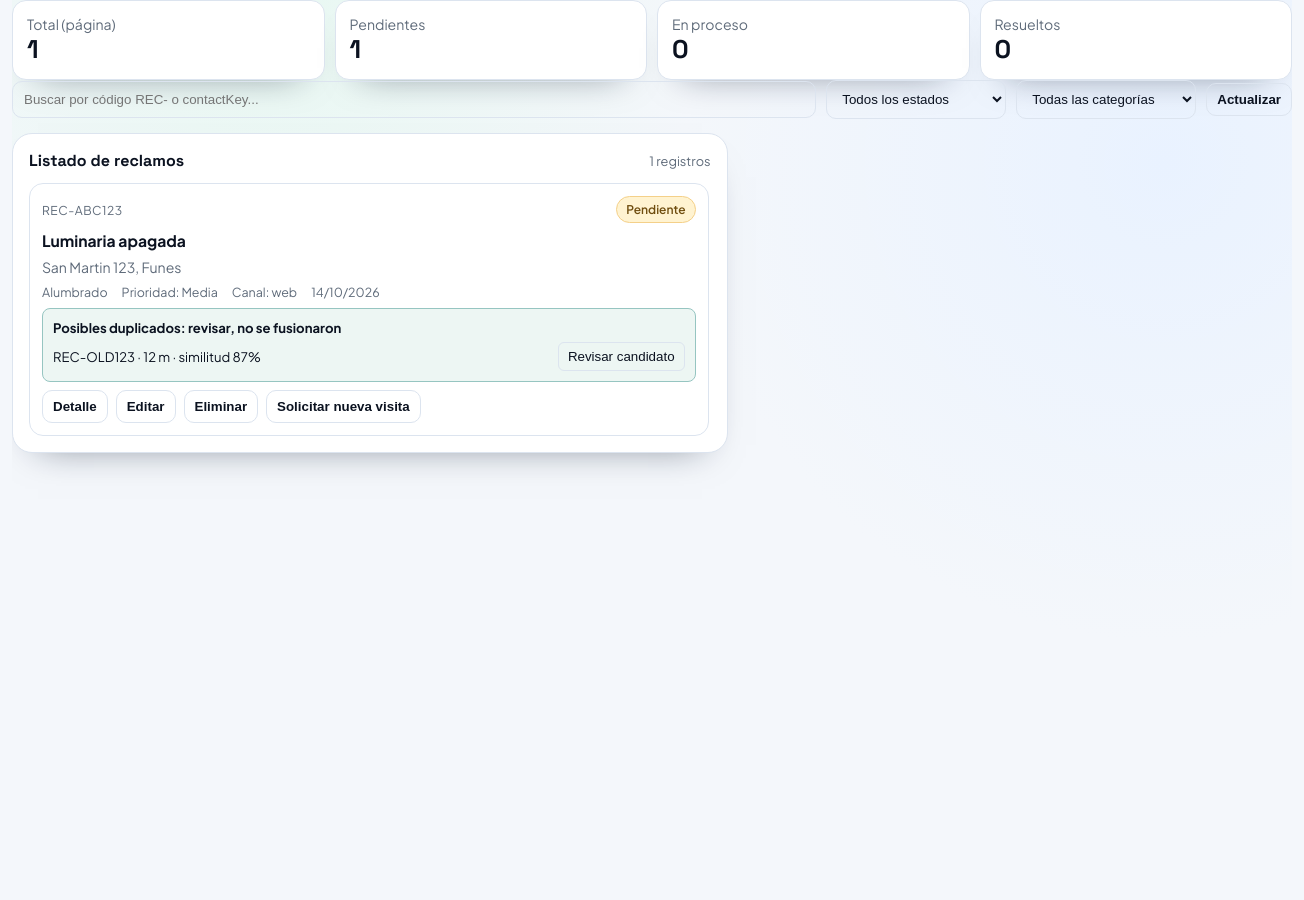
Test case: ReclamosPanel evidence details › loads the authenticated detail and displays the temporary evidence link
The image size is (1304, 900).
Click the button "Detalle" at [75, 406], box [42,390,108,423]
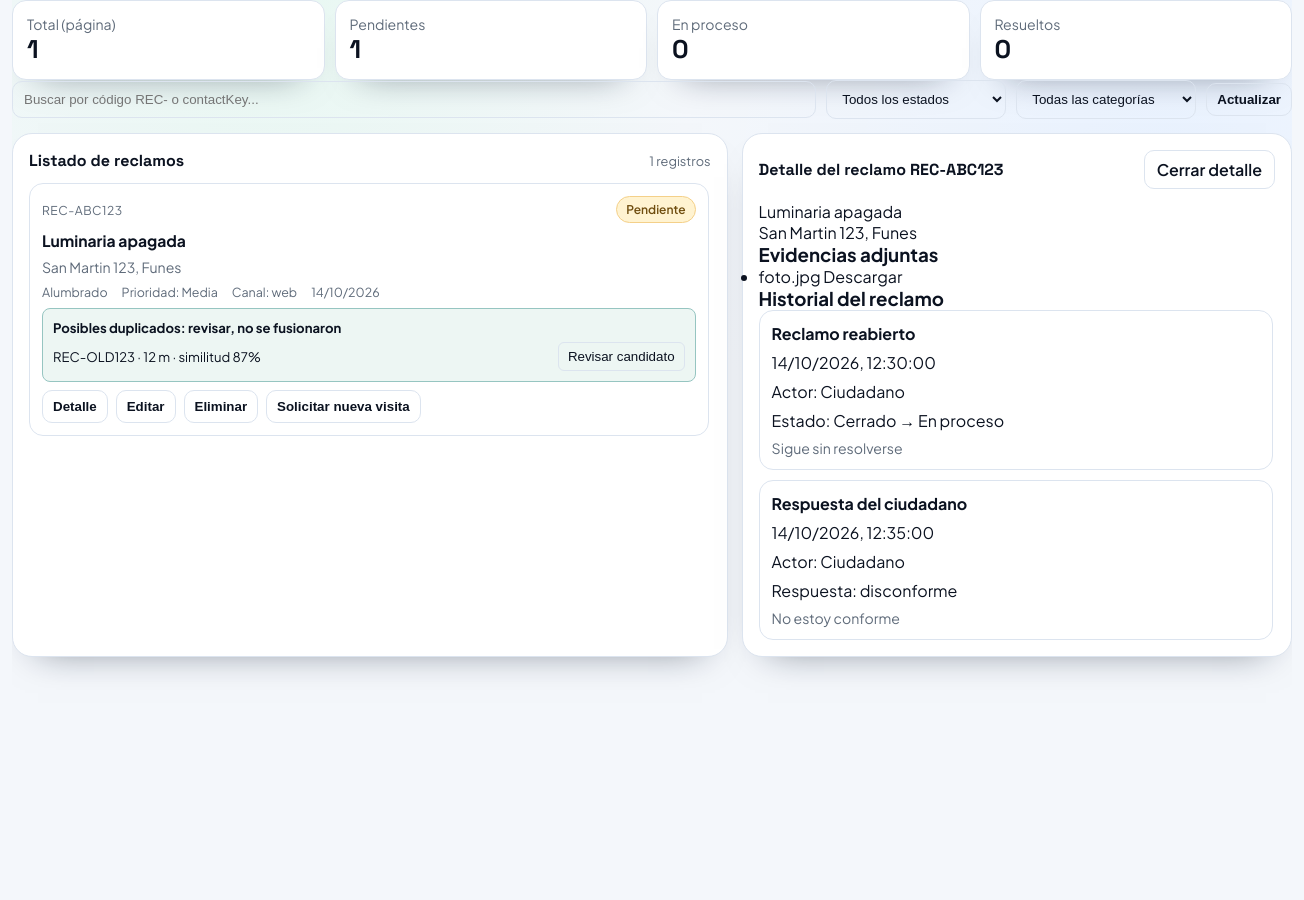
Result: the text "Reclamo reabierto" is shown at [772,323,915,344]
Result: the text "Respuesta del ciudadano" is shown at [772,493,967,514]
Result: the text "Sigue sin resolverse" is shown at [772,439,903,457]
